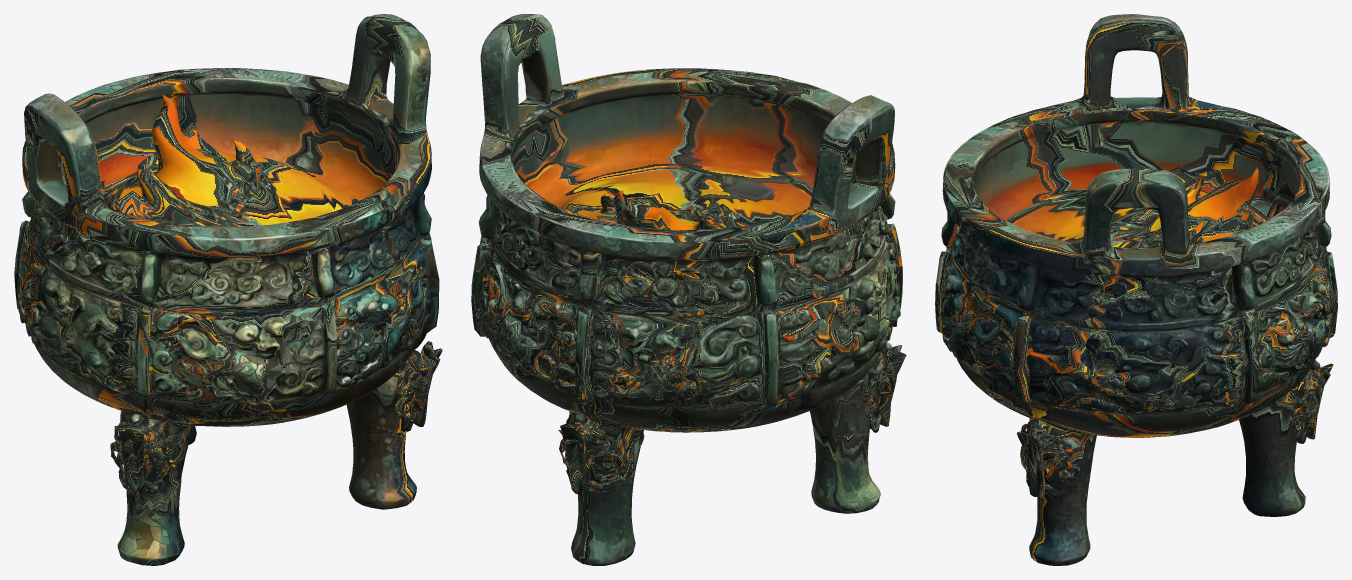
File: furnace.glb
The picture shows the model from 3 angles, left to right: view 1: azimuth 30°, elevation 25°; view 2: azimuth 150°, elevation 25°; view 3: azimuth 270°, elevation 25°; orthographic projection. The views are drawn at different scales.
Size of the model in its own units: 0.8865 by 0.9799 by 0.8746.
Materials: 1 (1 with a texture image).
